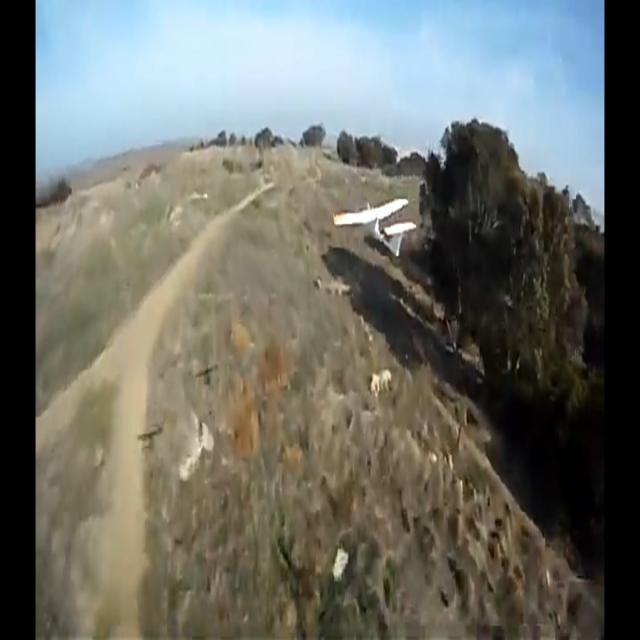iha: (365, 196, 385, 258)
